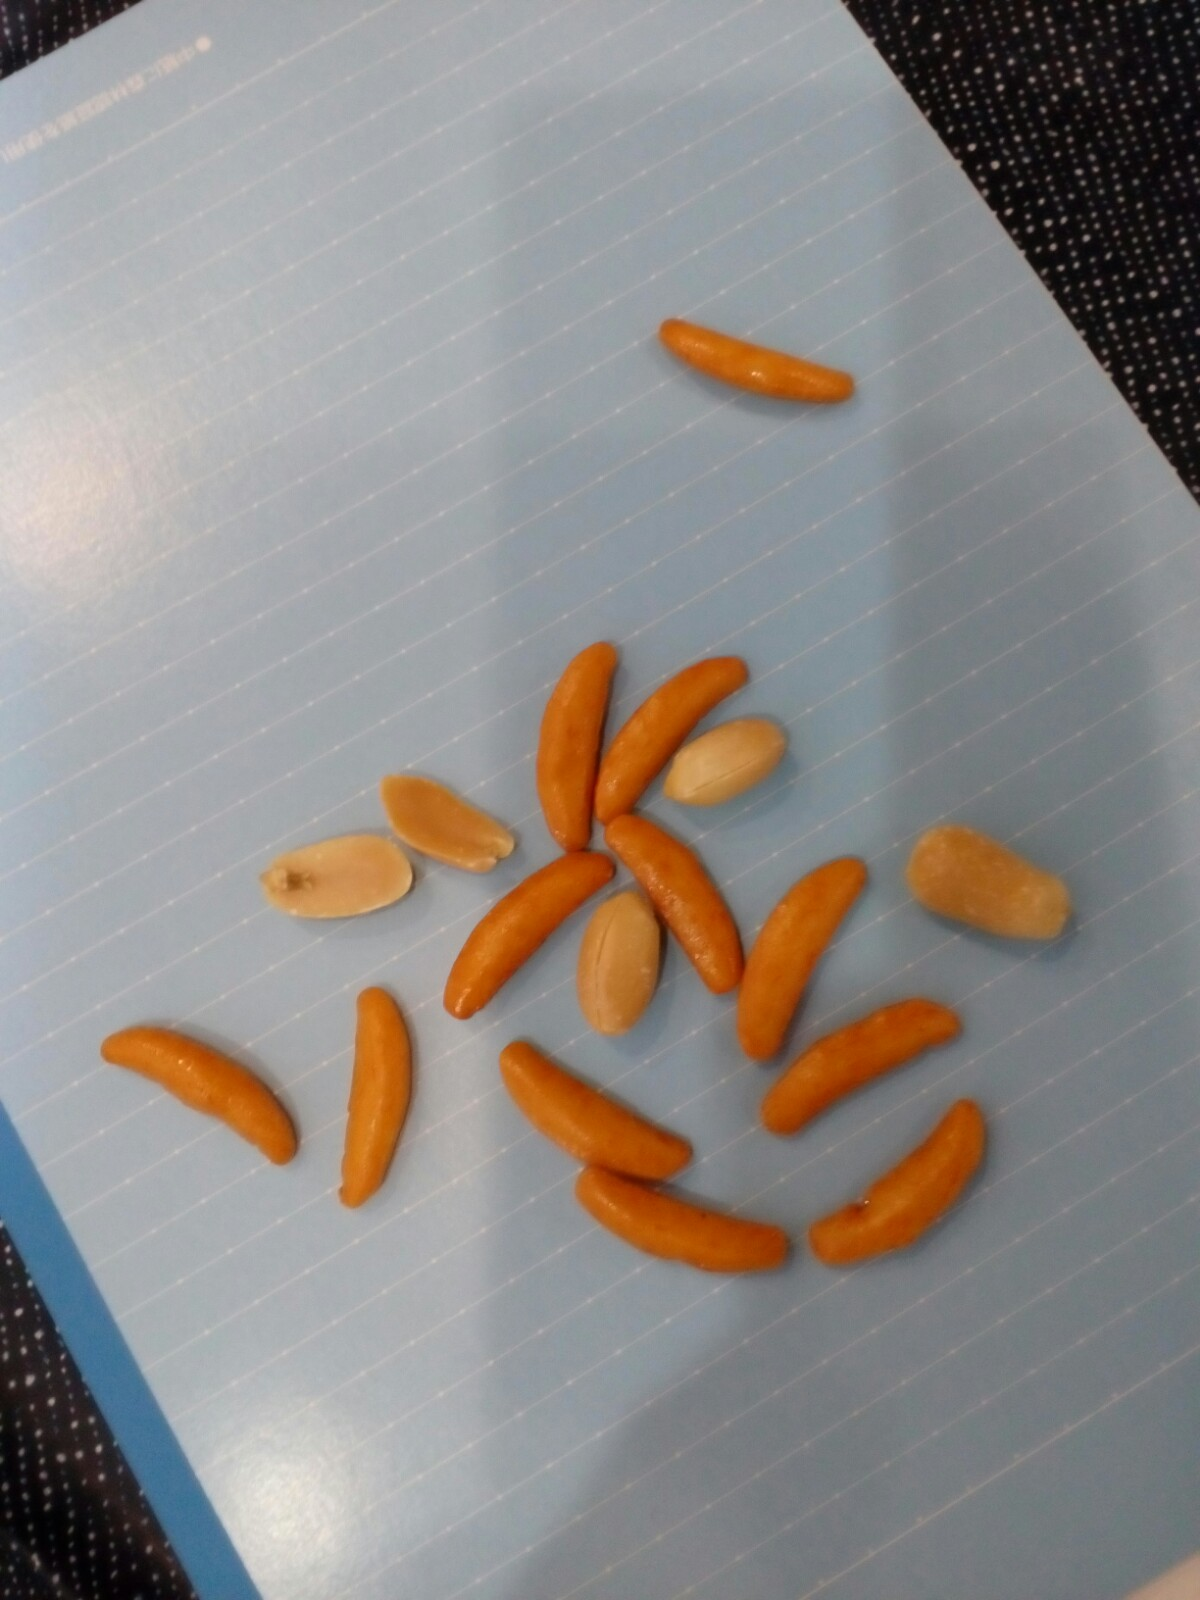peanut: (901, 813, 1076, 947), (379, 758, 528, 884), (575, 879, 669, 1041), (252, 833, 431, 916), (661, 712, 799, 808)
